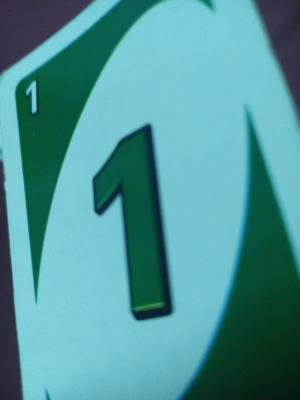green: (205, 109, 292, 381)
num_1: (64, 109, 196, 349), (14, 80, 53, 140)
